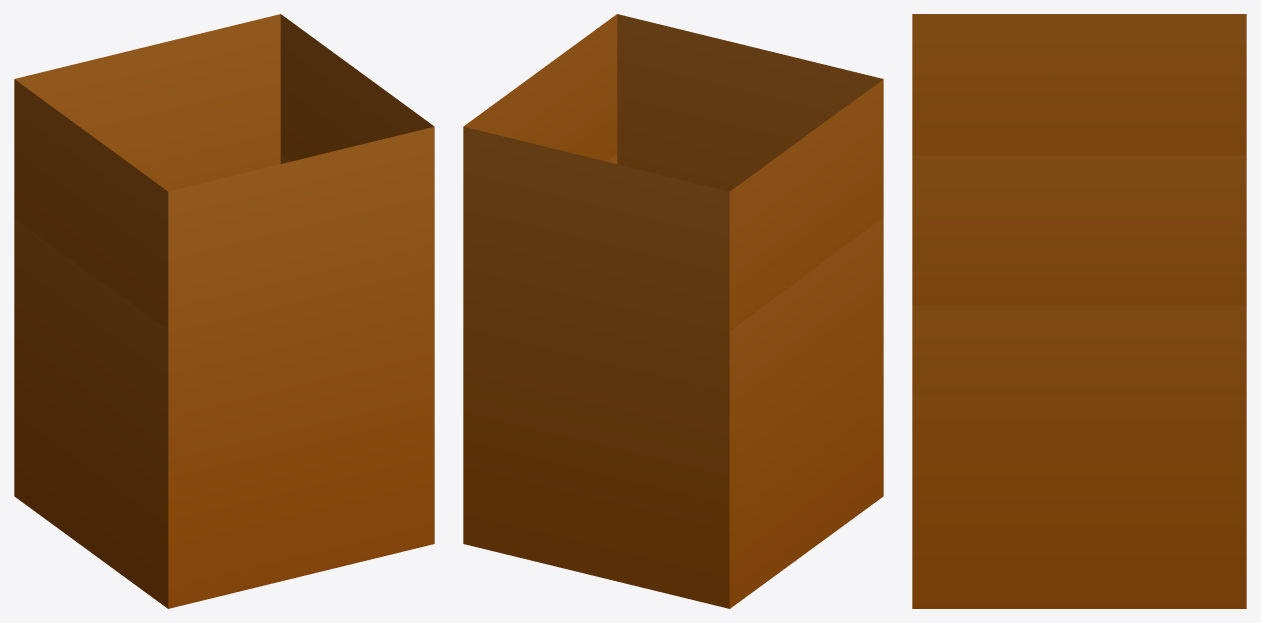
File: CardboardBox_Square_default.fbx
3 renders of one model, left to right at view 1: azimuth 30°, elevation 25°; view 2: azimuth 150°, elevation 25°; view 3: azimuth 270°, elevation 25°, orthographic. The views are drawn at different scales.
Visible parts, largest first — view 1: CardboardBox_Square.default, CardboardBox_Square_Flap4.default, CardboardBox_Square_Flap2.default, CardboardBox_Square_Flap1.default, CardboardBox_Square_Flap3.default; view 2: CardboardBox_Square.default, CardboardBox_Square_Flap2.default, CardboardBox_Square_Flap4.default, CardboardBox_Square_Flap1.default, CardboardBox_Square_Flap3.default; view 3: CardboardBox_Square.default, CardboardBox_Square_Flap3.default, CardboardBox_Square_Flap1.default.
Part boxes in pixels (<box>): CardboardBox_Square.default: <box>14,152,434,608</box>; CardboardBox_Square_Flap4.default: <box>168,126,434,329</box>; CardboardBox_Square_Flap2.default: <box>14,14,280,183</box>; CardboardBox_Square_Flap1.default: <box>14,79,168,329</box>; CardboardBox_Square_Flap3.default: <box>280,14,434,161</box>; CardboardBox_Square.default: <box>463,153,883,608</box>; CardboardBox_Square_Flap2.default: <box>463,126,729,329</box>; CardboardBox_Square_Flap4.default: <box>617,14,883,183</box>; CardboardBox_Square_Flap1.default: <box>729,79,883,330</box>; CardboardBox_Square_Flap3.default: <box>463,14,617,161</box>; CardboardBox_Square.default: <box>912,305,1246,608</box>; CardboardBox_Square_Flap3.default: <box>912,155,1246,305</box>; CardboardBox_Square_Flap1.default: <box>912,14,1246,155</box>.
Bounding box in the file's own units: 65 × 97.24 × 65.
